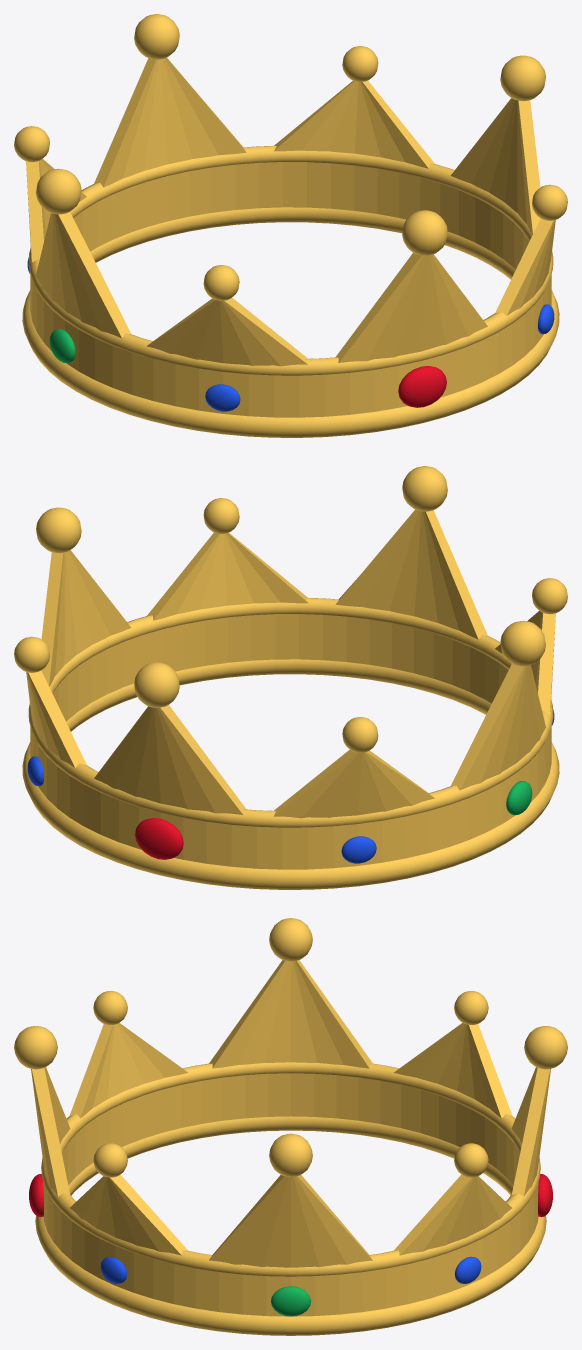
Rendered from crown_wear.fbx.
The picture shows the model from 3 angles, top to bottom: view 1: azimuth 30°, elevation 25°; view 2: azimuth 150°, elevation 25°; view 3: azimuth 270°, elevation 25°; orthographic projection. The views are drawn at different scales.
Parts seen in each view (by area): view 1: crown_wear; view 2: crown_wear; view 3: crown_wear.
Boxes of the visible parts, bbox=[...] form: crown_wear: bbox=[14, 14, 567, 437]; crown_wear: bbox=[14, 466, 567, 889]; crown_wear: bbox=[14, 918, 567, 1335].
Size of the model in its own units: 0.9597 by 0.392 by 0.9597.
